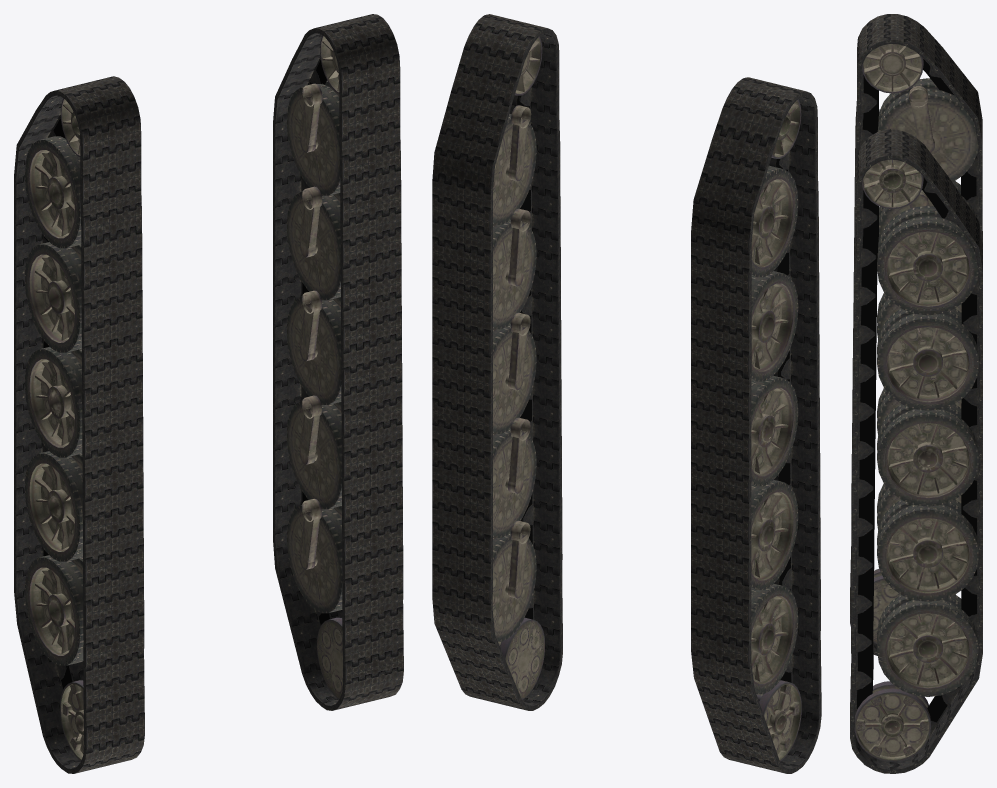
The model's file is Chassis.glb.
3 renders of one model, left to right at view 1: azimuth 30°, elevation 25°; view 2: azimuth 150°, elevation 25°; view 3: azimuth 270°, elevation 25°, orthographic. The views are drawn at different scales.
Parts seen in each view (by area): view 1: set_0_group_0, set_1_group_0, set_2_group_0, set_3_group_0; view 2: set_0_group_0, set_1_group_0, set_2_group_0, set_3_group_0; view 3: set_3_group_0, set_0_group_0, set_2_group_0, set_1_group_0.
Boxes of the visible parts, box(x1,y1,x2,y2) form: set_0_group_0: box(273, 14, 403, 710); set_1_group_0: box(14, 76, 144, 773); set_2_group_0: box(24, 98, 84, 760); set_3_group_0: box(287, 35, 342, 699); set_0_group_0: box(432, 14, 562, 710); set_1_group_0: box(691, 77, 821, 773); set_2_group_0: box(751, 99, 801, 761); set_3_group_0: box(492, 36, 544, 699); set_3_group_0: box(854, 159, 978, 761); set_0_group_0: box(850, 129, 982, 773); set_2_group_0: box(862, 44, 978, 643); set_1_group_0: box(850, 14, 982, 655).
Bounding box in the file's own units: 2.73 × 5.56 × 1.08.
4 materials, 4 textured.
